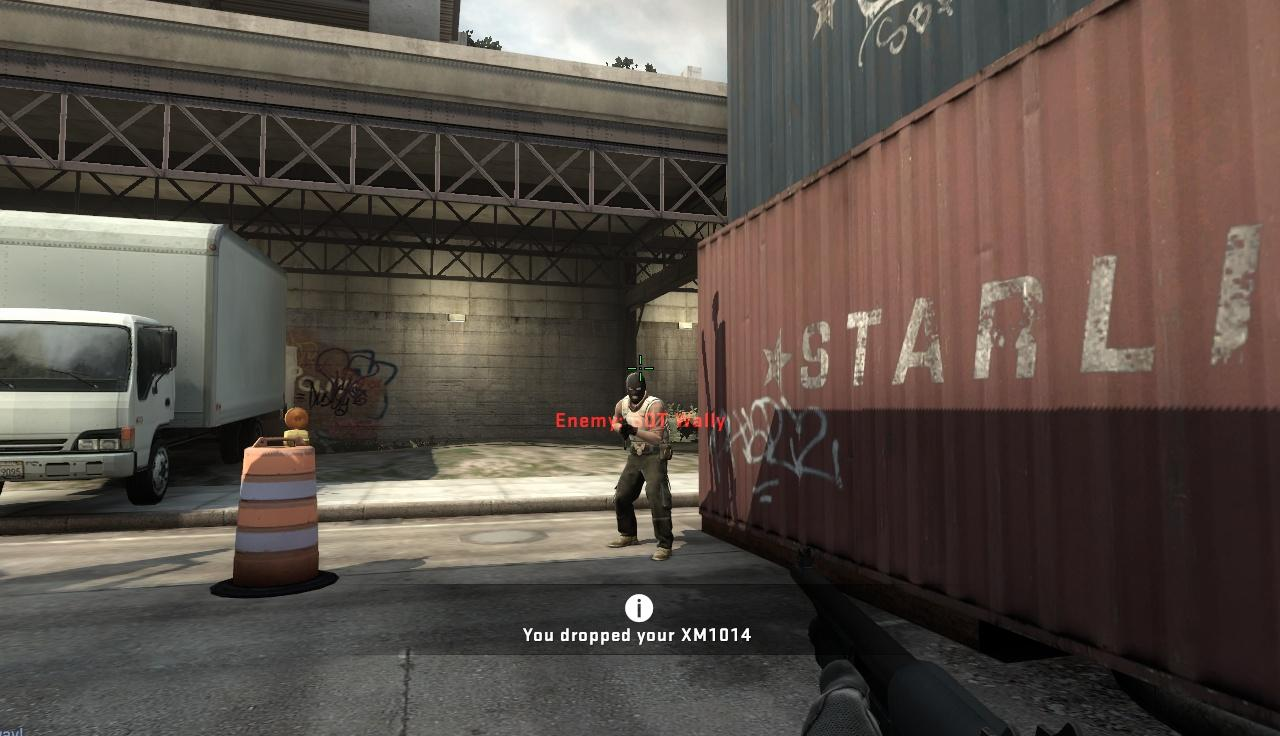shotgun: (769, 534, 1085, 736)
tt: (616, 372, 673, 560)
tthead: (625, 372, 646, 402)
